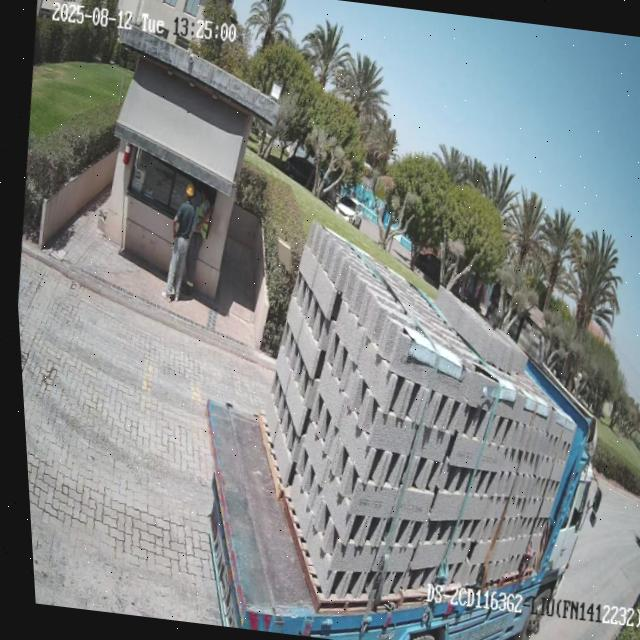bricks: (265, 221, 573, 601)
